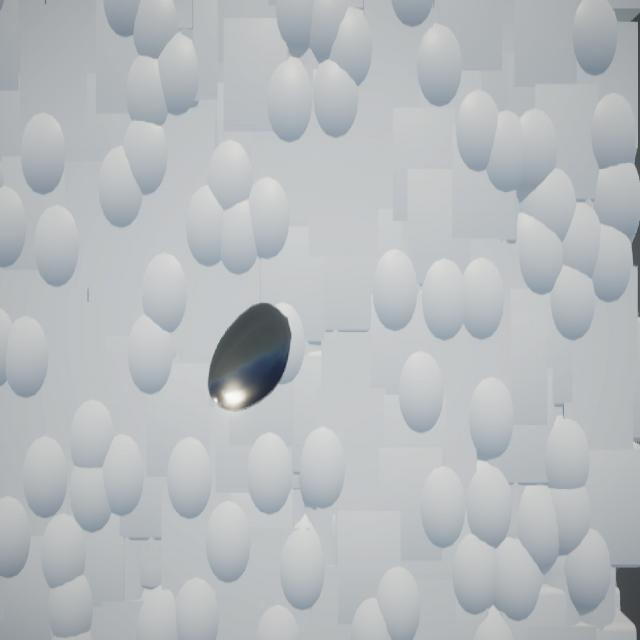top_spoon: (209, 304, 293, 413)
